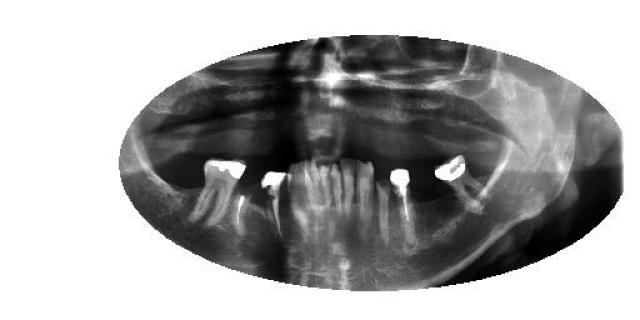Cavity: (234, 184, 255, 236)
Fillings: (190, 158, 250, 226), (432, 154, 498, 214)
Implant: (262, 168, 288, 242), (390, 168, 414, 226)
